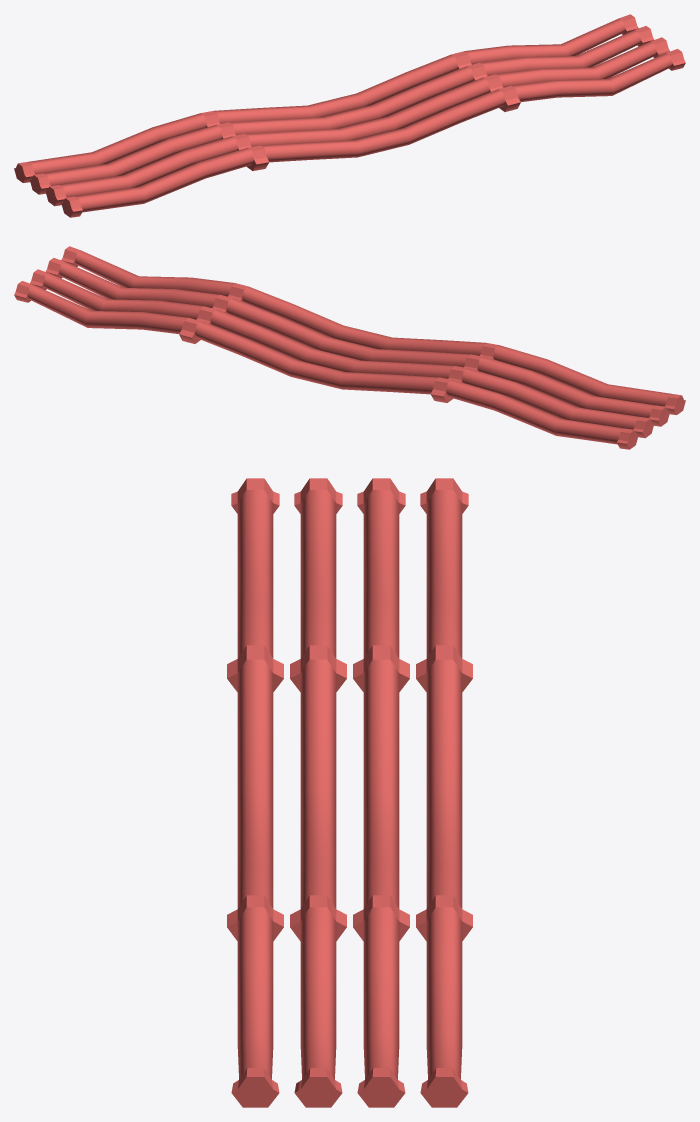
The model's file is SM_PROP_SORTED_WIRES_01.fbx.
The picture shows the model from 3 angles, top to bottom: view 1: azimuth 30°, elevation 25°; view 2: azimuth 150°, elevation 25°; view 3: azimuth 270°, elevation 25°; orthographic projection. The views are drawn at different scales.
Visible parts, largest first — view 1: SM_PROP_SORTED_WIRES_01; view 2: SM_PROP_SORTED_WIRES_01; view 3: SM_PROP_SORTED_WIRES_01.
Boxes of the visible parts, x1=… form: SM_PROP_SORTED_WIRES_01: x1=14, y1=14, x2=685, y2=217; SM_PROP_SORTED_WIRES_01: x1=14, y1=246, x2=685, y2=449; SM_PROP_SORTED_WIRES_01: x1=227, y1=478, x2=472, y2=1107.
Size of the model in its own units: 4 by 0.2053 by 0.6959.
